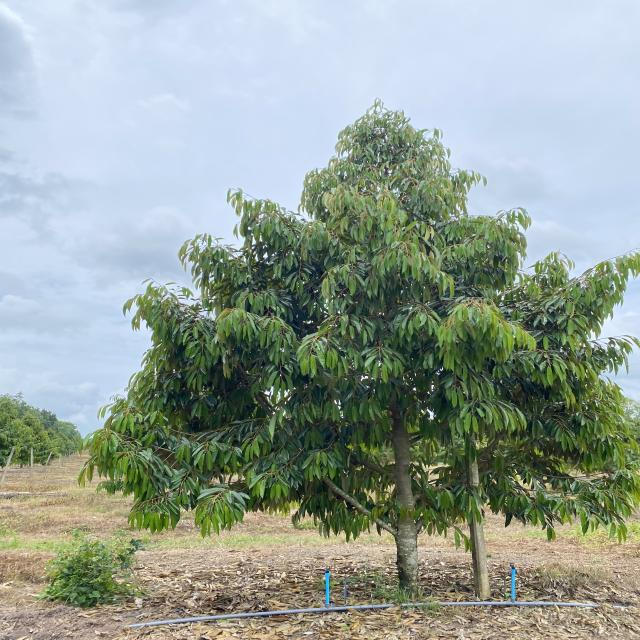Tree: (104, 94, 638, 607)
